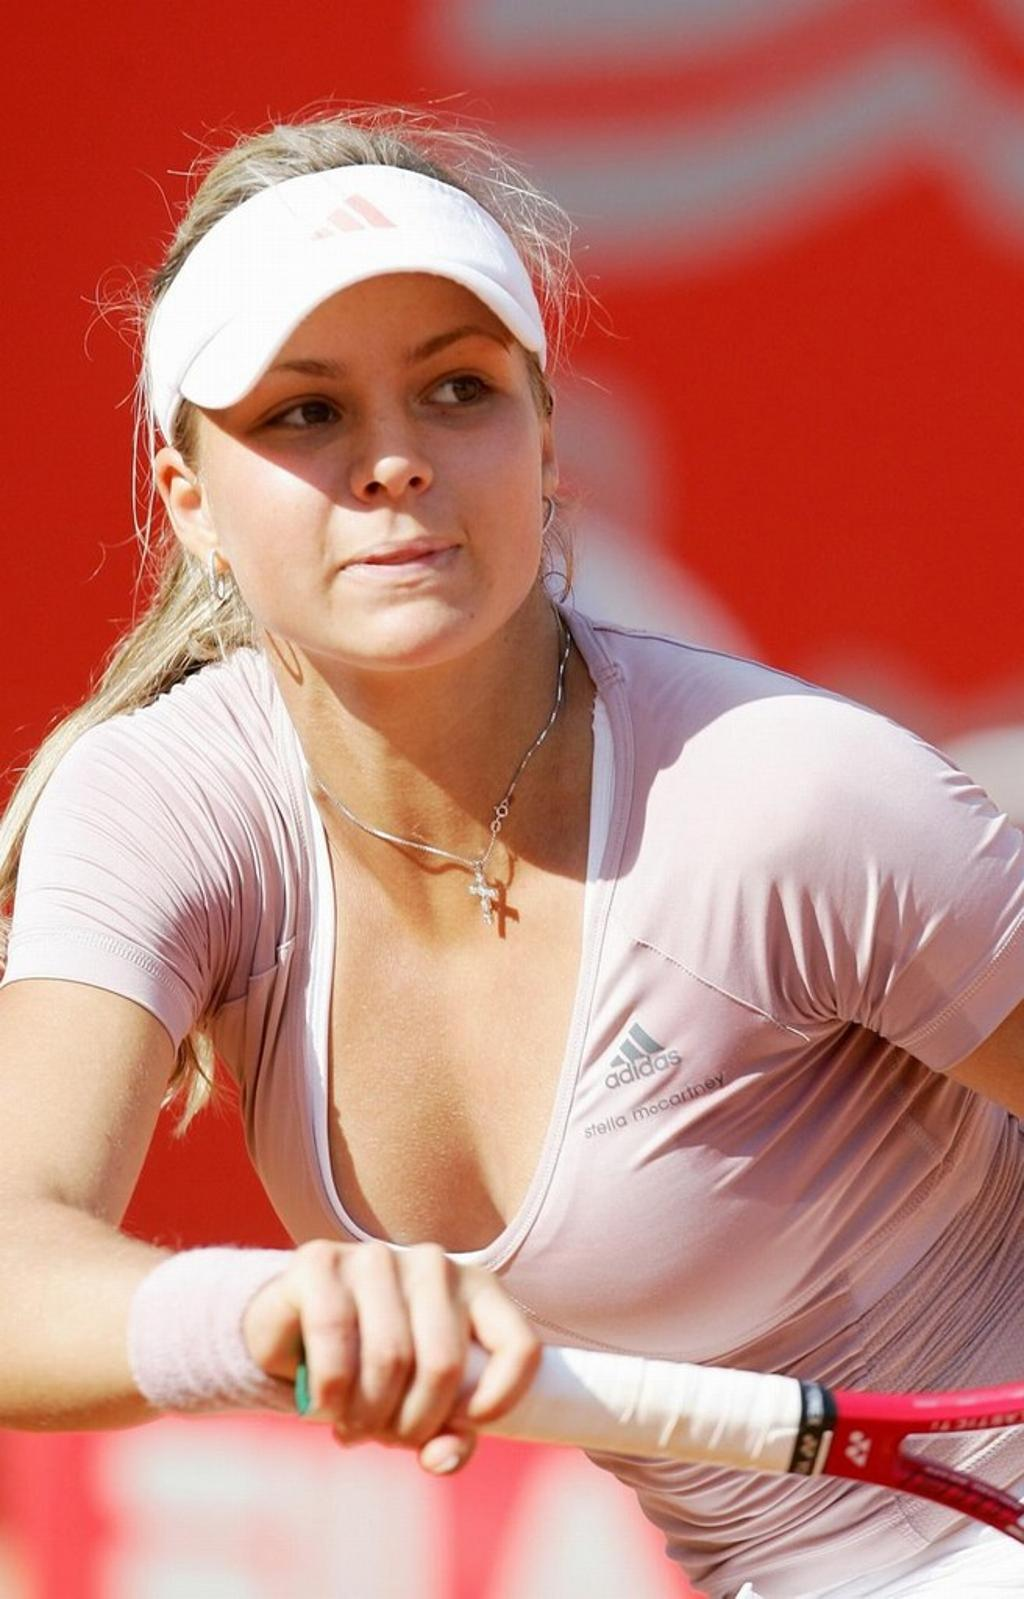face: (197, 256, 540, 665)
